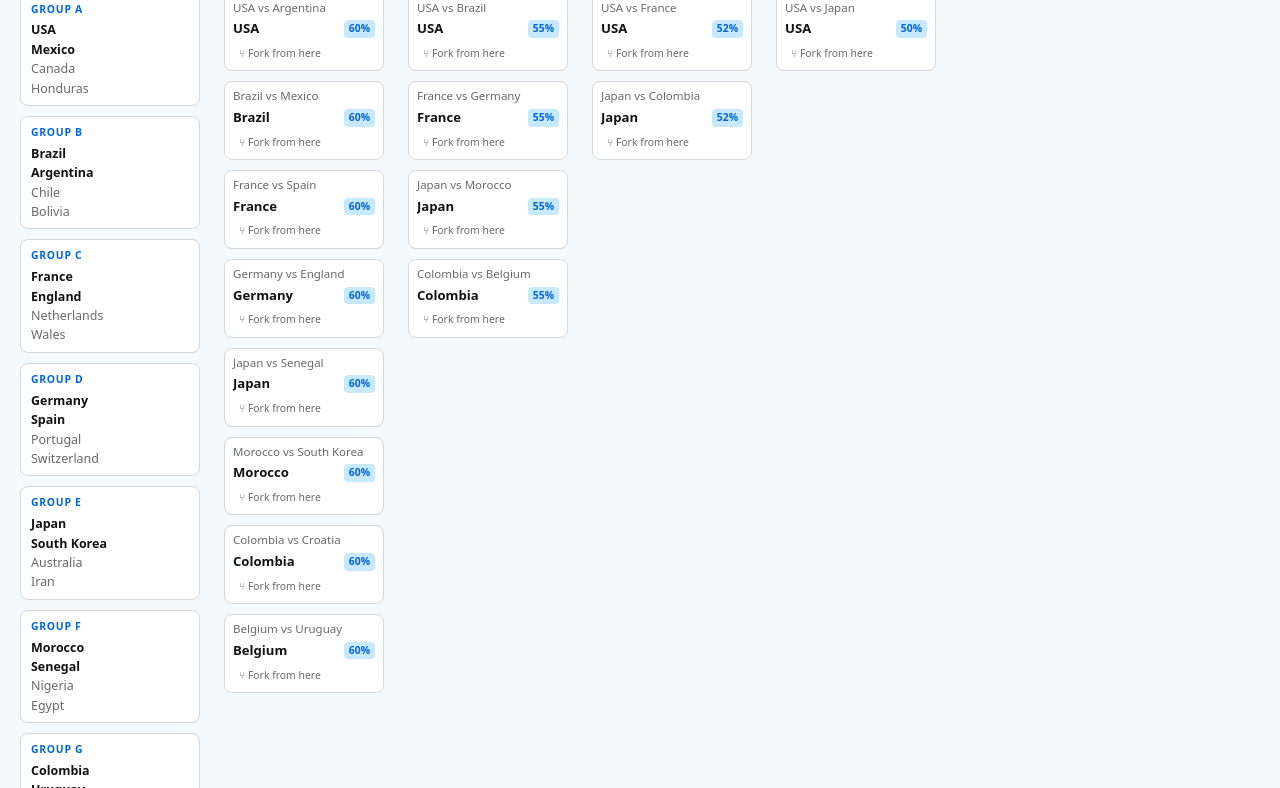
BracketFork — Save error handling › shows an inline error message when postBracketFork rejects
# Make override
Click the button with aria-label "Fork from here: USA vs Argentina" at coordinates (280, 54), box [233,43,327,64]
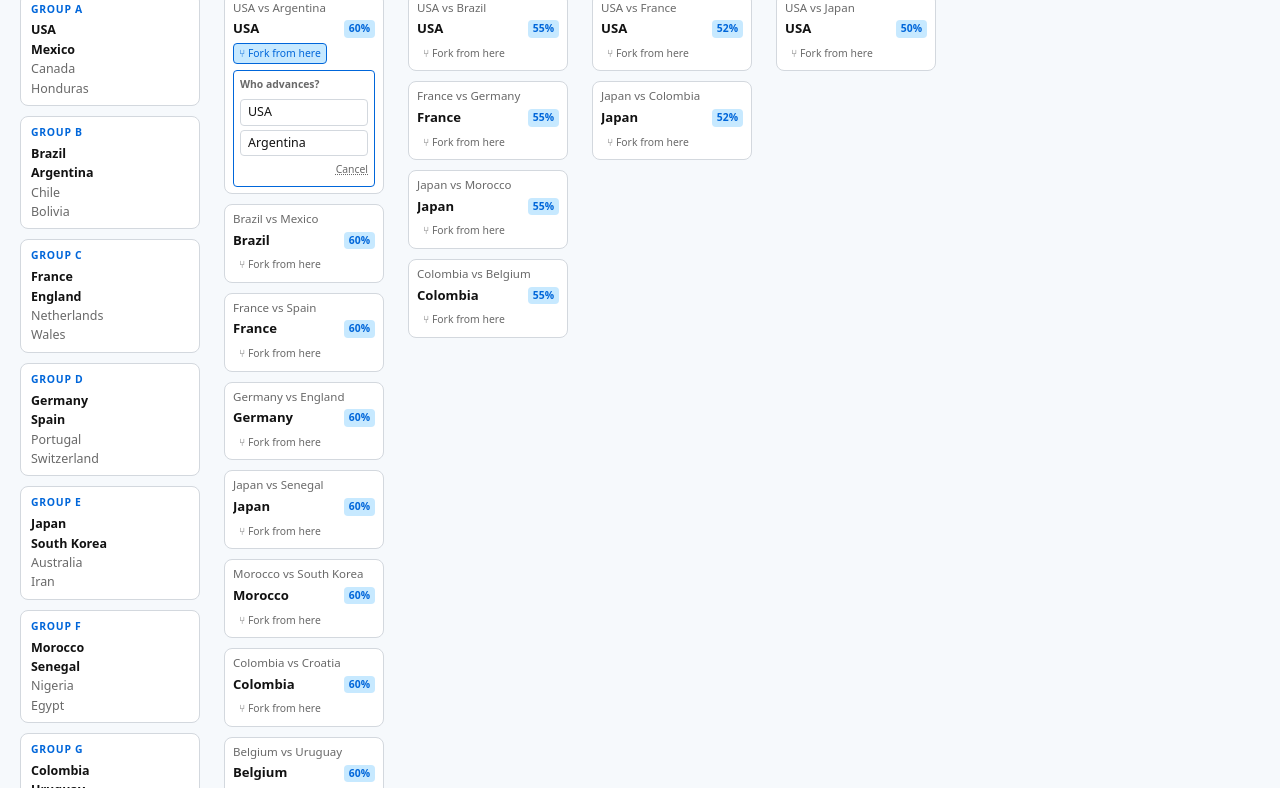
Click the button with test id "pick-r16:0-away" at coordinates (304, 143), box [240,130,368,156]
(page scrolled)
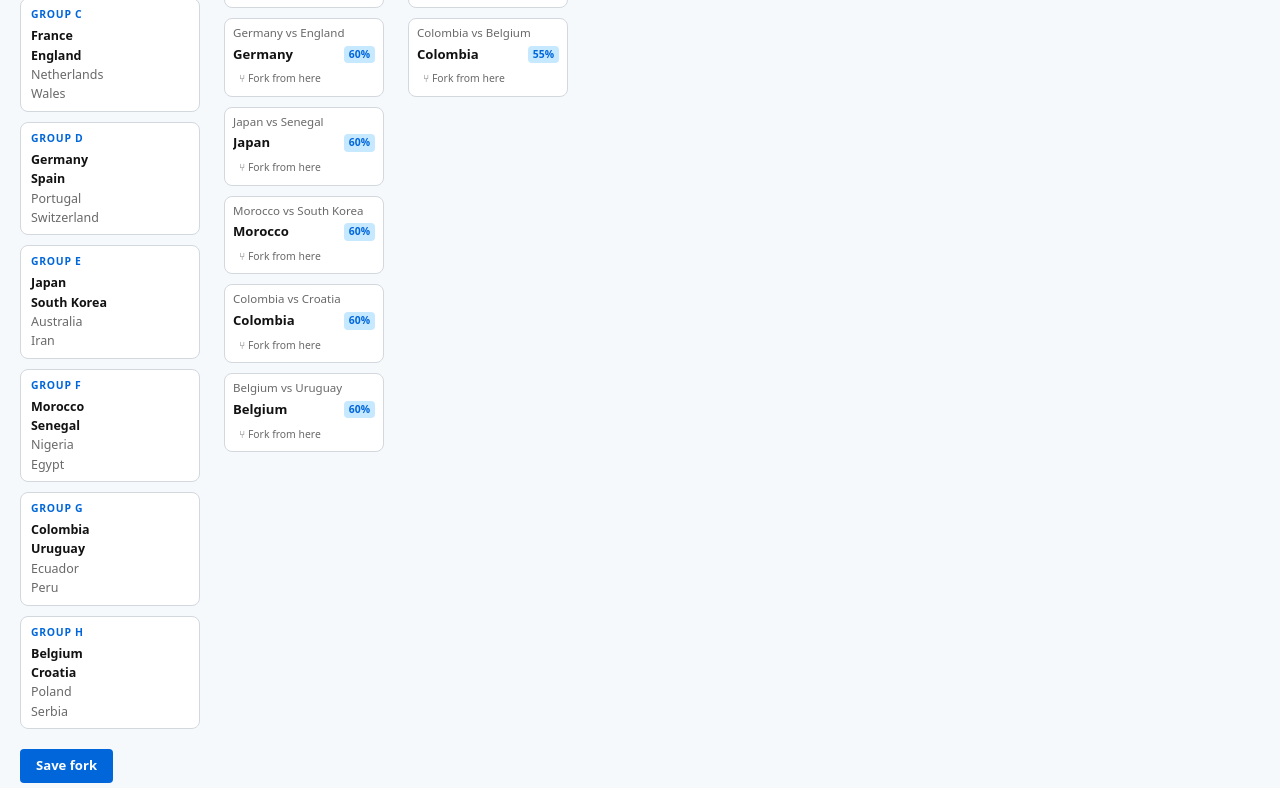
# Attempt save
Click the button with aria-label "save your bracket fork" at coordinates (66, 766), box [20,749,113,783]
(page scrolled)
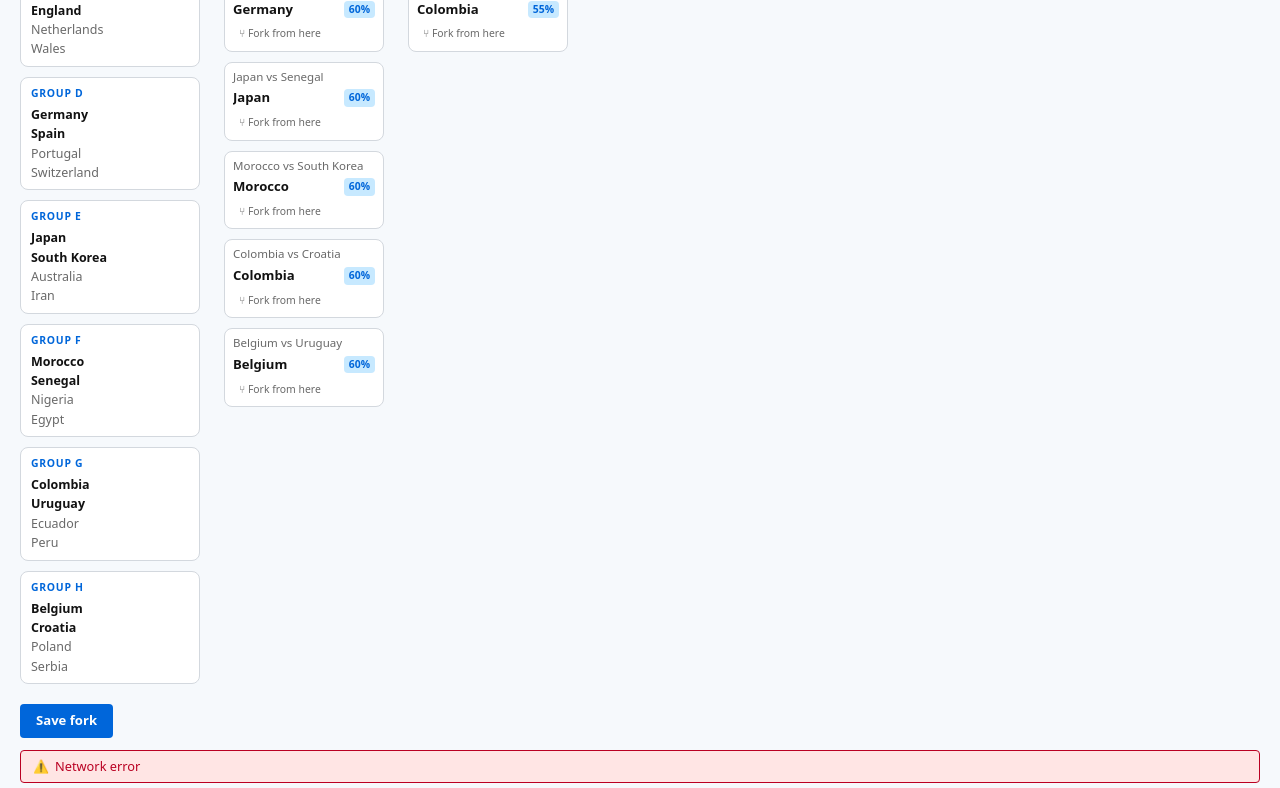
Check: the message "⚠ Network error" is shown, box [20,750,1260,783]
Check: the message shows "Network error", box [55,757,140,775]
